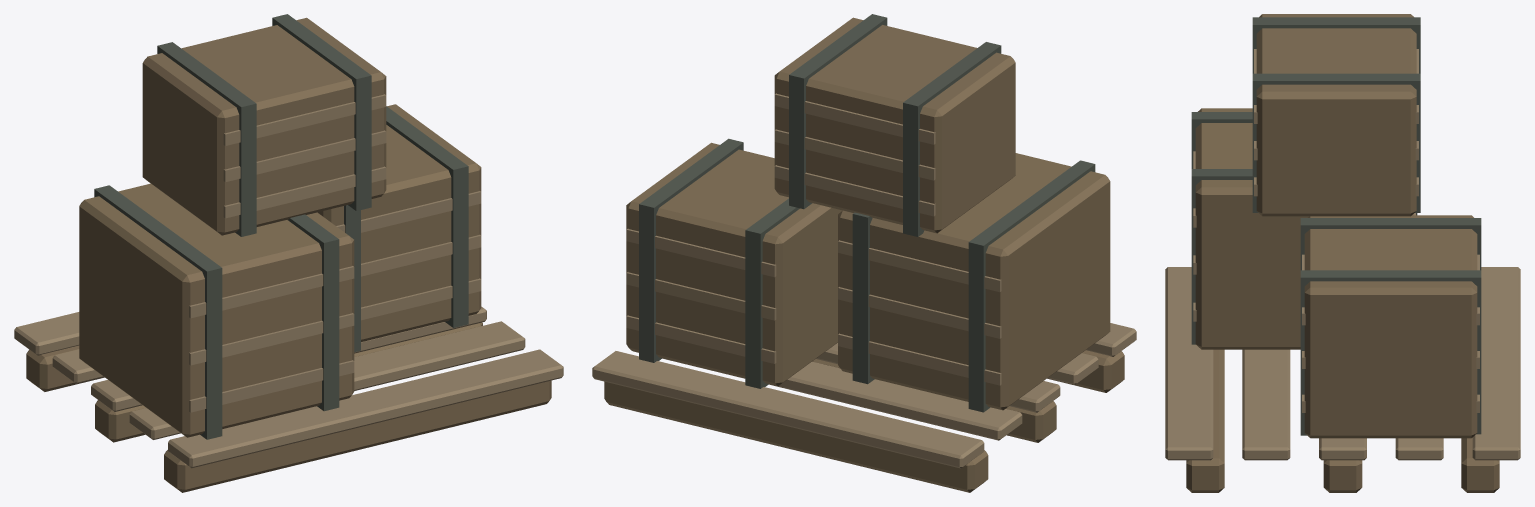
Rendered from crates.glb.
3 views of the same model, side by side, from view 1: azimuth 30°, elevation 25°; view 2: azimuth 150°, elevation 25°; view 3: azimuth 270°, elevation 25° (orthographic).
Parts seen in each view (by area): view 1: crates; view 2: crates; view 3: crates.
Part boxes in pixels (box(x1,y1,x2,y2)): crates: box(14, 14, 563, 492); crates: box(592, 14, 1136, 492); crates: box(1165, 14, 1520, 492).
Size of the model in its own units: 1.35 by 1.18 by 1.11.
